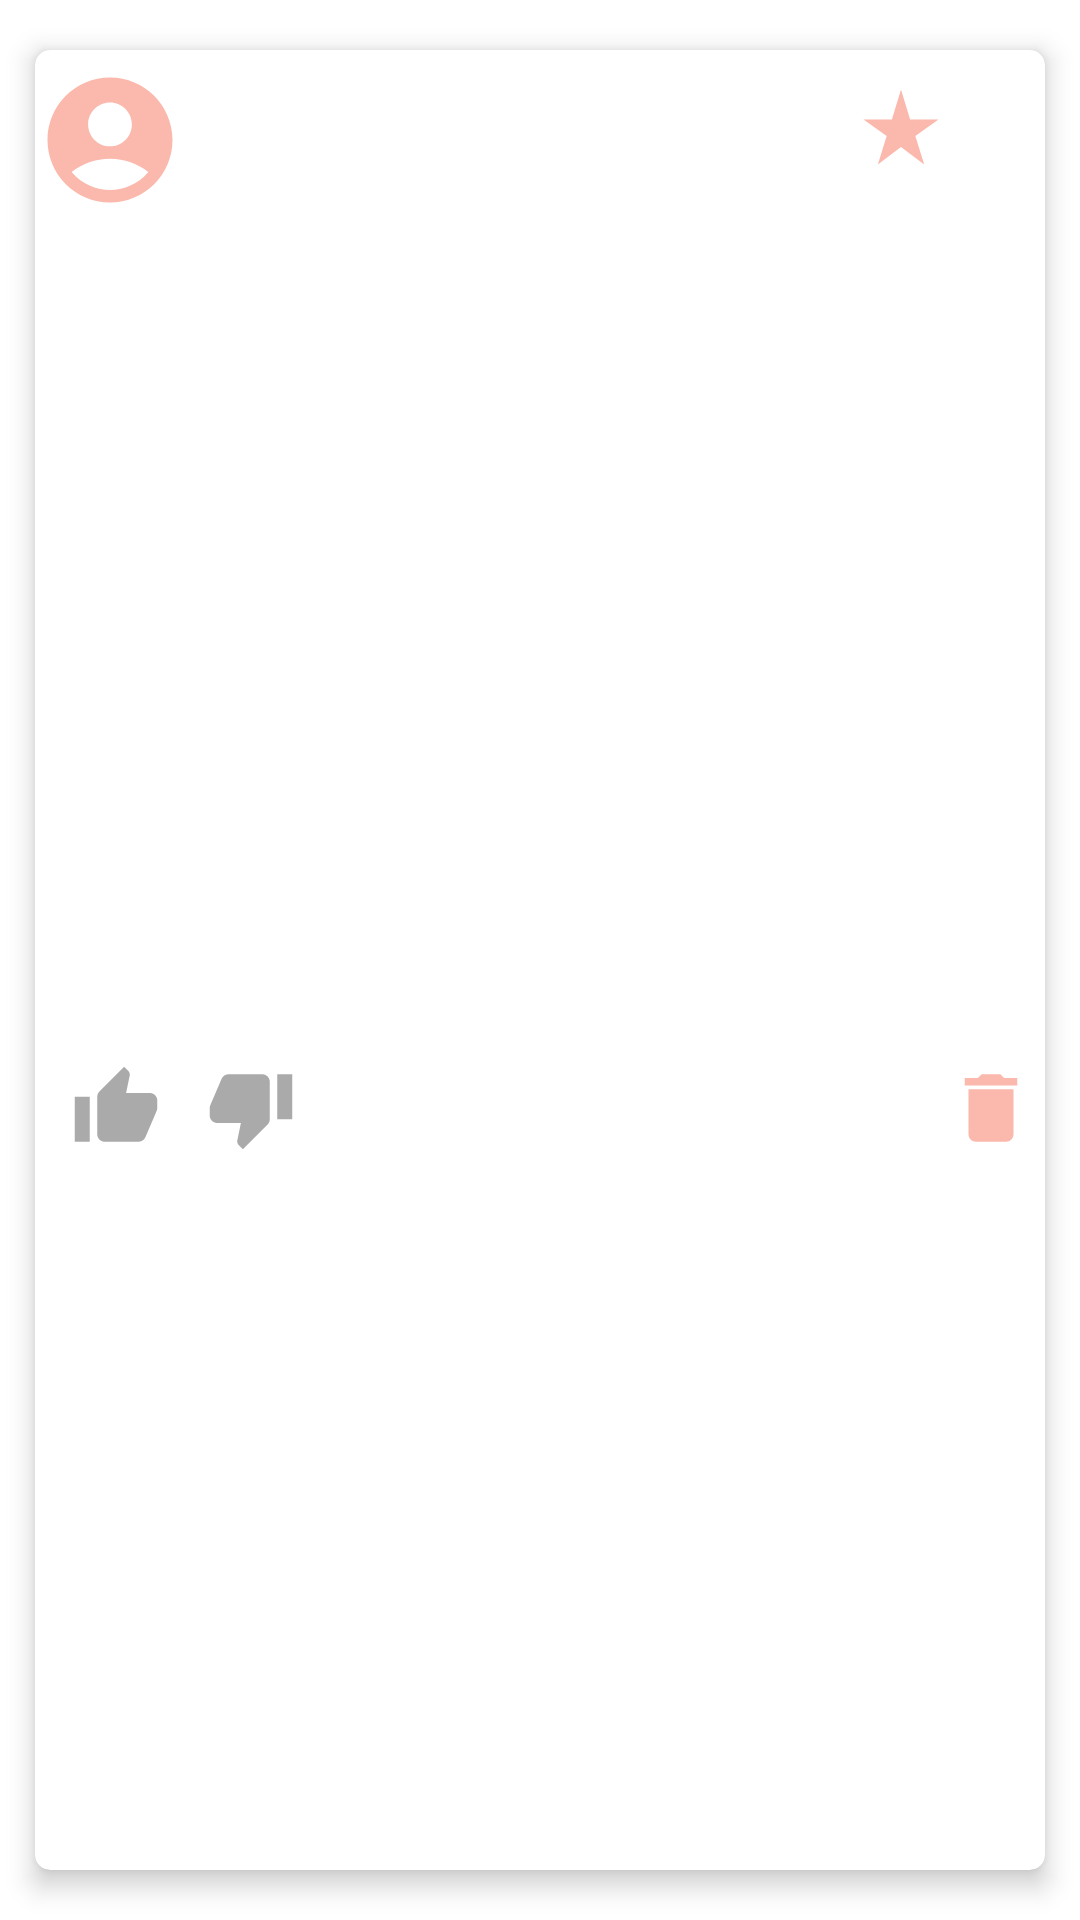

Icon click points for this 1080 x 1920 phone screenshot, format [x,y]:
account circle: [110,140]
delete: [991,1108]
star rate: [901,127]
thumb down: [251,1111]
thumb up: [116,1104]
